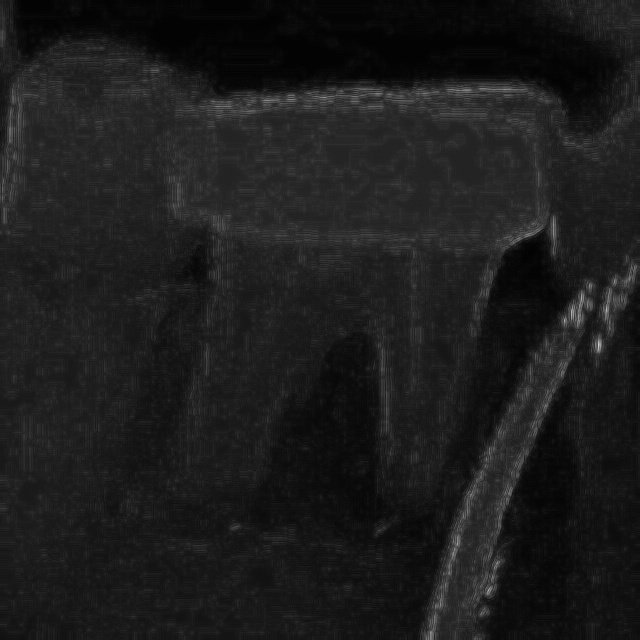Class 2- incomplete endodontic treatment: (146, 42, 572, 552)
